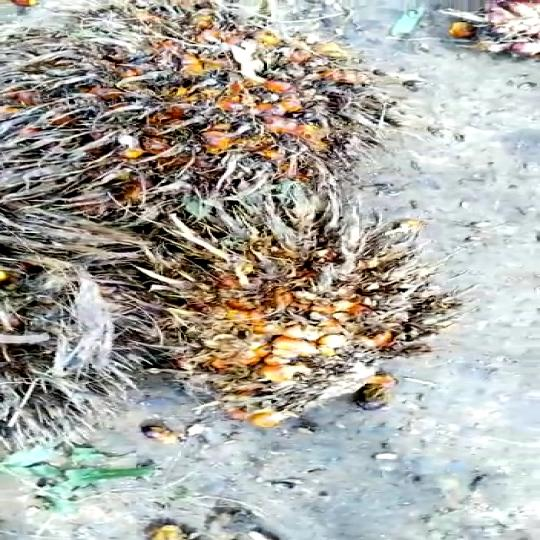terlalu masak: (81, 187, 464, 441), (35, 0, 395, 223)
